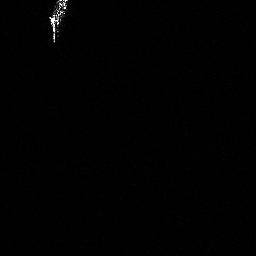ship: (45, 1, 71, 44)
